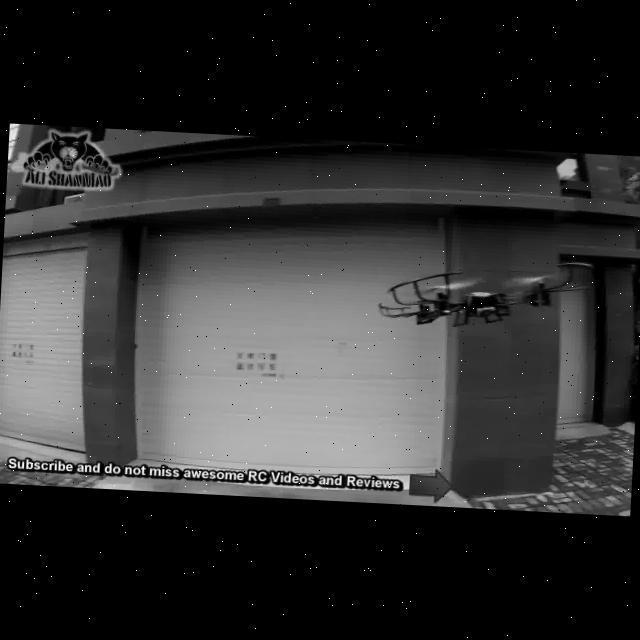Drons: (364, 248, 602, 343)
